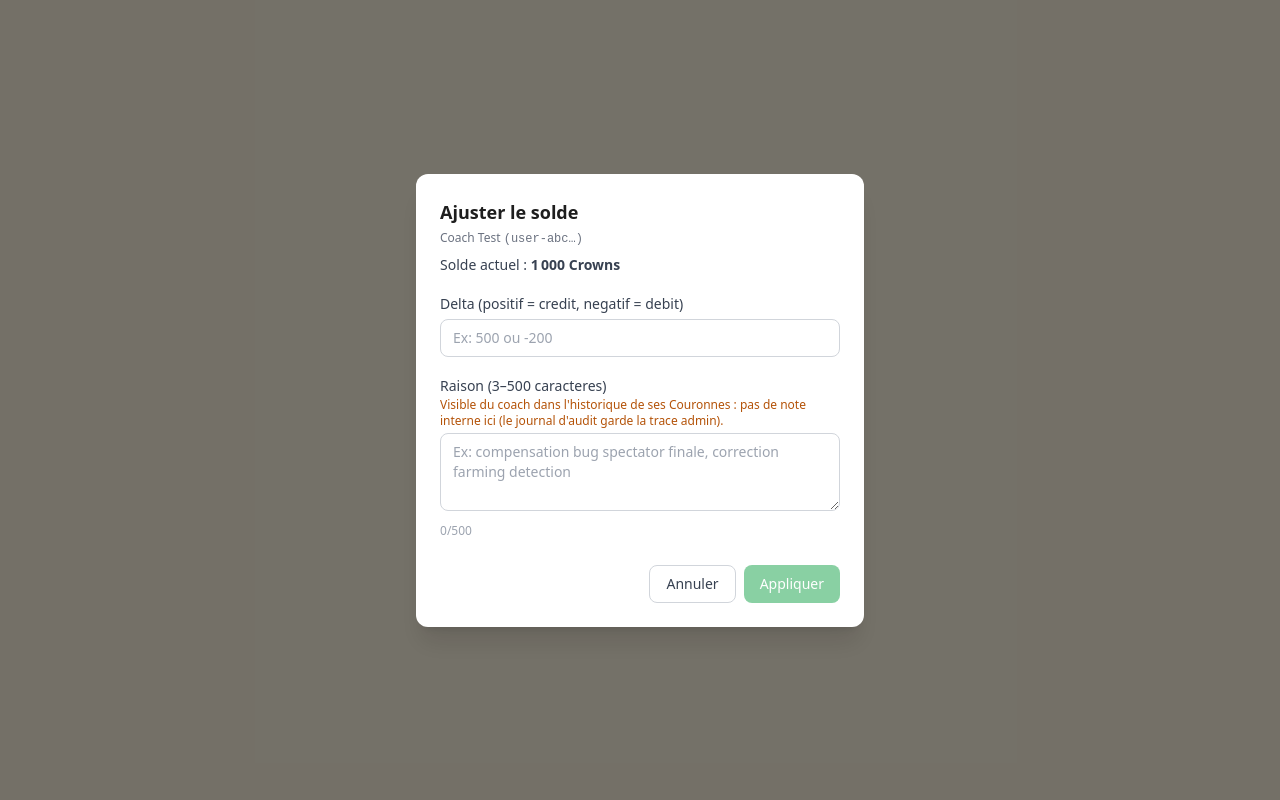
Test: BalanceAdjustModal (Lot P.B.1) › preview du nouveau solde quand delta valide
The image size is (1280, 800).
Type "500" into the number field with test id "balance-delta". click: (640, 338)
box: [440,318,840,356]
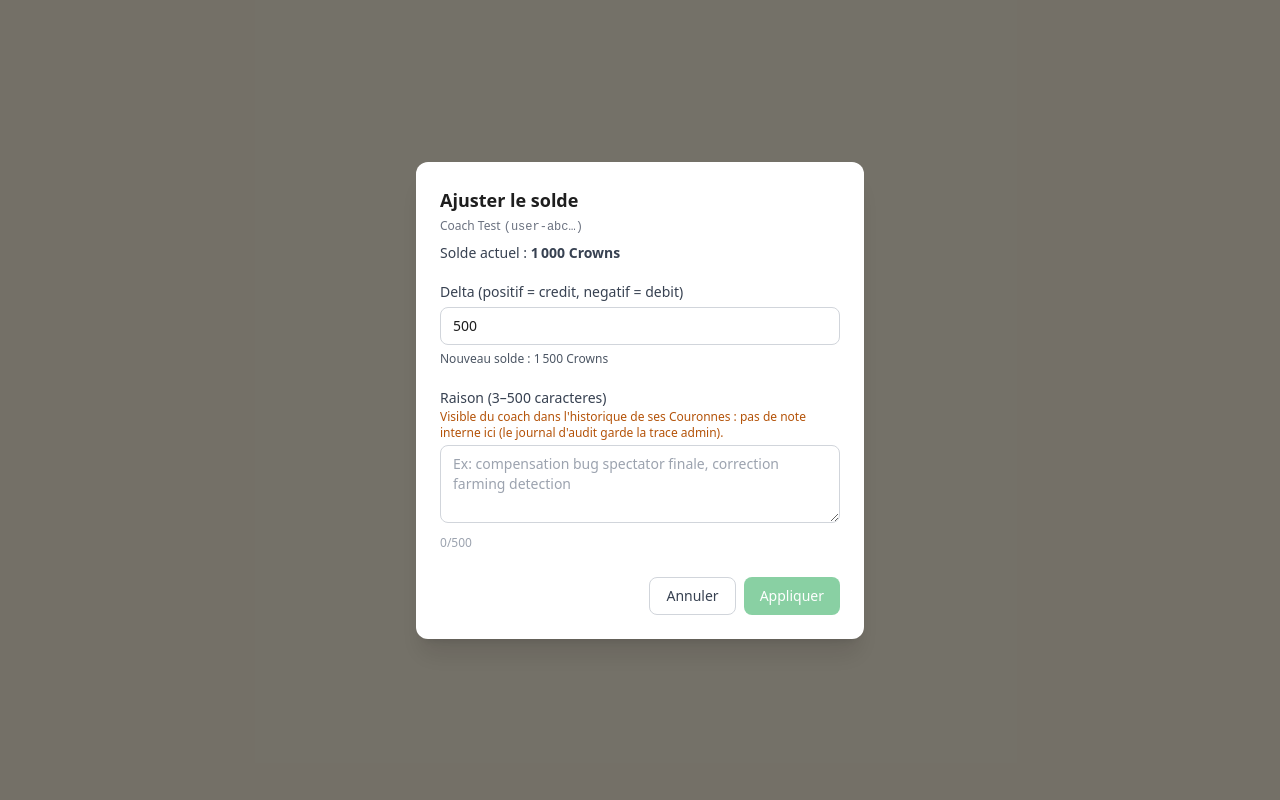
Result: the text with test id "new-balance-preview" reads "Nouveau solde : 1 500 Crowns" at [534,350,563,366]
